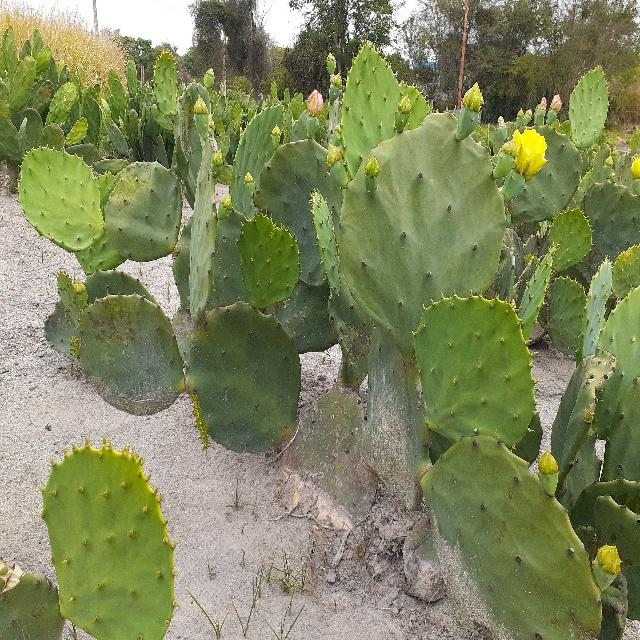Cortar: (86, 343, 248, 579), (0, 196, 147, 455), (460, 439, 633, 640), (224, 185, 408, 363), (254, 370, 367, 640)
